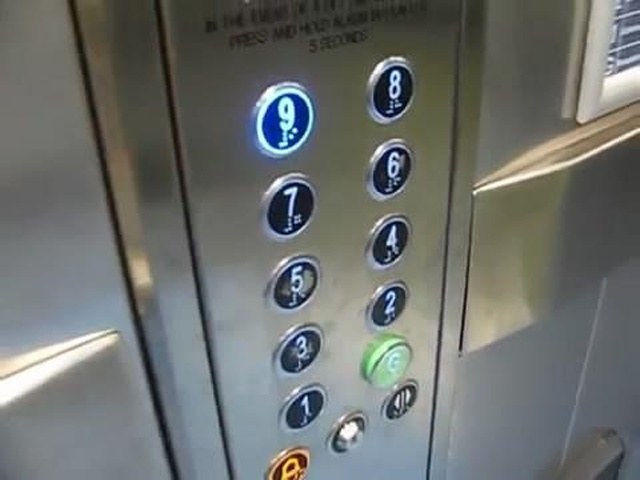1: (274, 380, 329, 436)
2: (363, 277, 411, 332)
3: (269, 320, 326, 380)
4: (362, 210, 415, 273)
5: (261, 251, 323, 316)
6: (361, 136, 416, 205)
7: (255, 169, 319, 244)
8: (362, 53, 418, 128)
9: (246, 79, 317, 162)
G: (358, 333, 415, 390)
alarm: (262, 442, 314, 480)
keyhole: (324, 409, 370, 459)
open: (379, 379, 421, 424)
